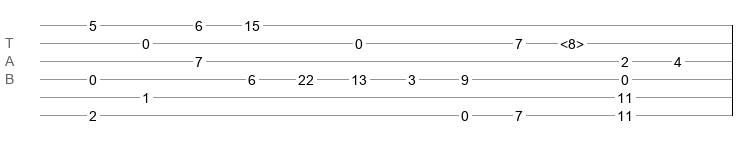0: (89, 72, 97, 82), (142, 36, 150, 46), (355, 36, 363, 46), (461, 108, 469, 118), (621, 72, 629, 82)
1: (142, 90, 150, 100)
11: (617, 108, 633, 118), (617, 90, 633, 100)
13: (351, 72, 367, 82)
15: (244, 18, 260, 28)
2: (89, 108, 97, 118), (621, 54, 629, 64)
22: (298, 72, 314, 82)
3: (408, 72, 416, 82)
4: (674, 54, 682, 64)
5: (89, 18, 97, 28)
6: (195, 18, 203, 28), (248, 72, 256, 82)
7: (195, 54, 203, 64), (515, 36, 523, 46), (515, 108, 523, 118)
9: (461, 72, 469, 82)
harmonic: (560, 36, 584, 46)
